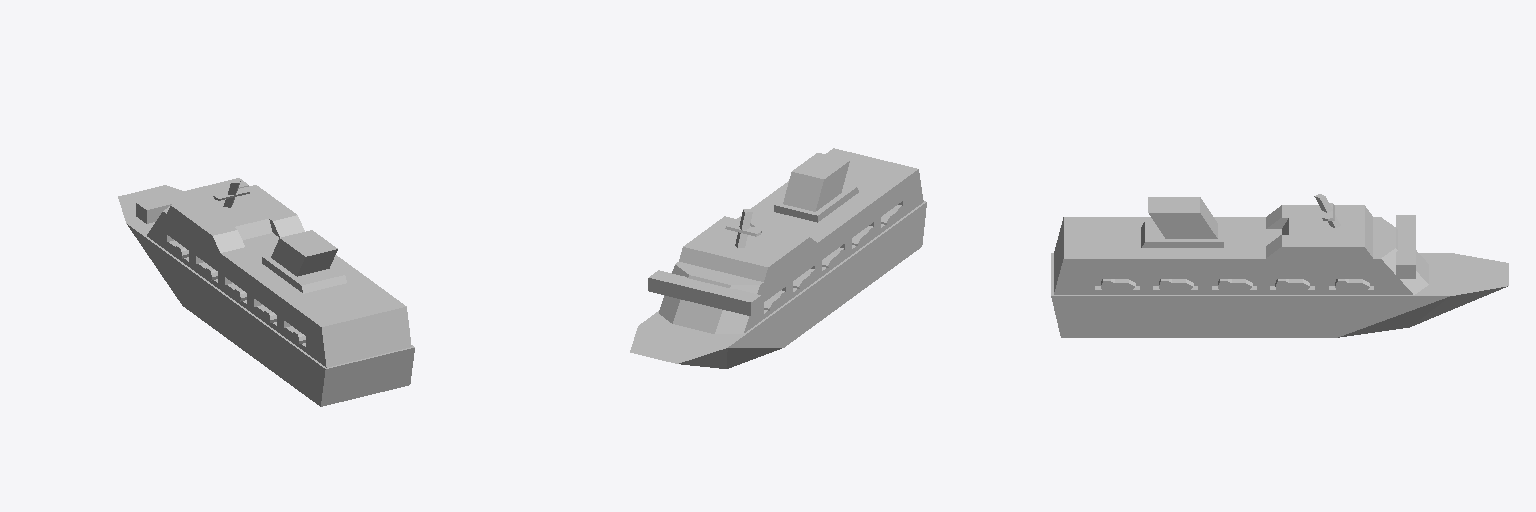
File: cruiseship.obj
3 views of the same model, side by side, from view 1: azimuth 30°, elevation 25°; view 2: azimuth 150°, elevation 25°; view 3: azimuth 270°, elevation 25° (orthographic).
Visible parts, largest first — view 1: Box001; view 2: Box001; view 3: Box001.
Boxes of the visible parts, x1=… form: Box001: x1=118, y1=178, x2=414, y2=406; Box001: x1=630, y1=148, x2=926, y2=368; Box001: x1=1051, y1=194, x2=1508, y2=337.
Bounding box in the file's own units: 47.04 × 52.46 × 182.